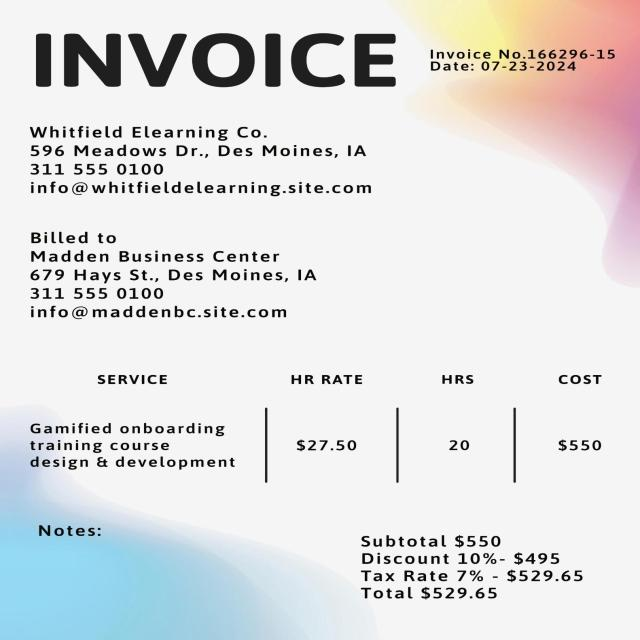paragraph: (13, 112, 404, 199), (19, 229, 352, 328), (19, 22, 405, 97), (346, 526, 588, 615), (418, 42, 625, 81), (19, 516, 127, 546)
table: (10, 352, 619, 487)
